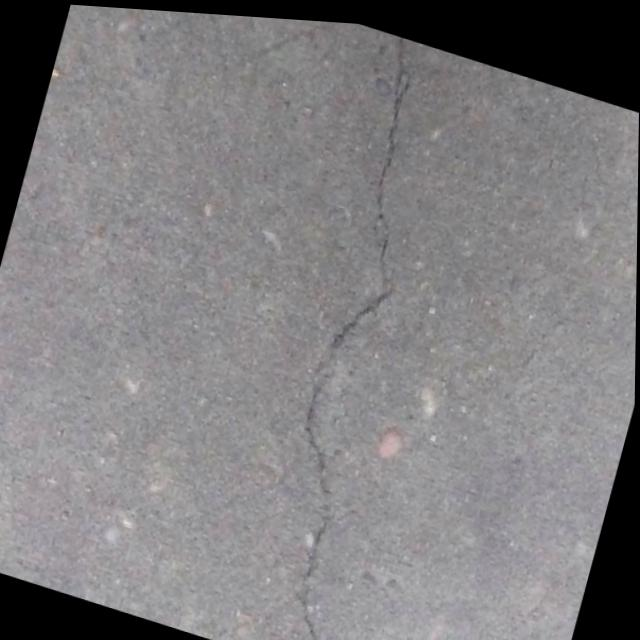Crack: (200, 11, 521, 640)
